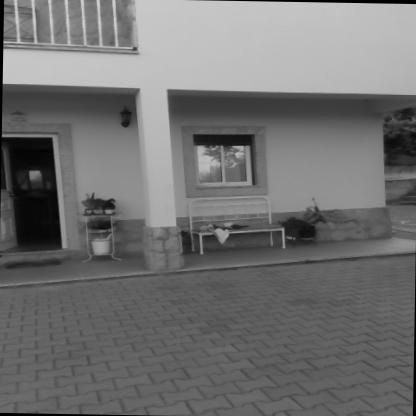open: (0, 129, 72, 259)
